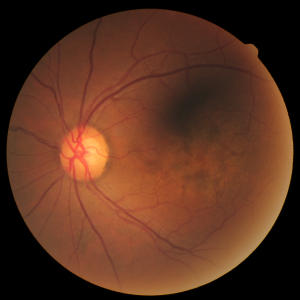retina_disease: (32, 104, 225, 221)
